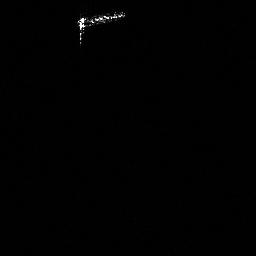ship: (73, 8, 128, 49)
